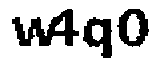0: (116, 6, 150, 49)
4: (52, 7, 80, 49)
q: (84, 14, 113, 60)
w: (8, 14, 53, 49)
